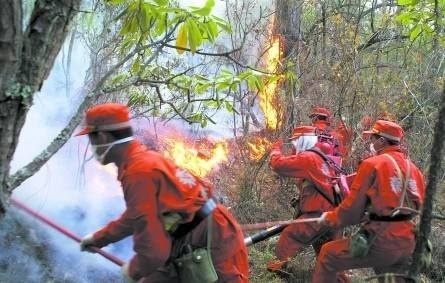fire: (256, 17, 286, 131), (159, 130, 229, 176)
